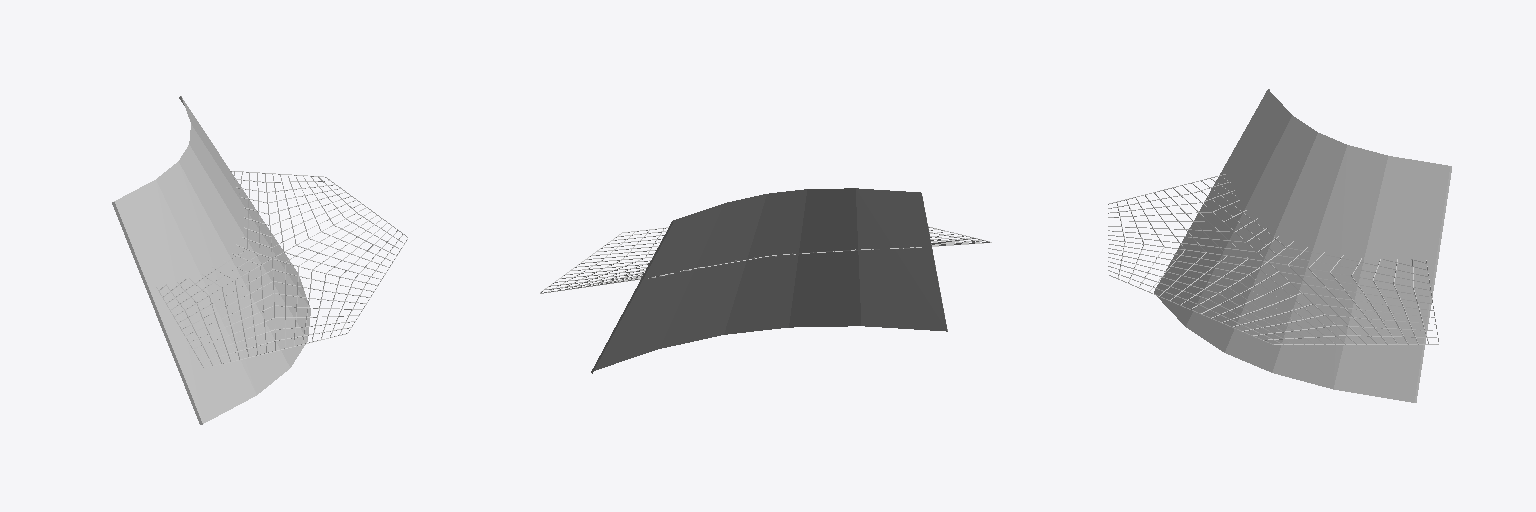
File: CornerNet.obj
3 views of the same model, side by side, from view 1: azimuth 30°, elevation 25°; view 2: azimuth 150°, elevation 25°; view 3: azimuth 270°, elevation 25° (orthographic).
Parts seen in each view (by area): view 1: 4Way.001_Cube.058; view 2: 4Way.001_Cube.058; view 3: 4Way.001_Cube.058.
Boxes of the visible parts, x1=… form: 4Way.001_Cube.058: x1=112, y1=96, x2=407, y2=424; 4Way.001_Cube.058: x1=540, y1=188, x2=991, y2=373; 4Way.001_Cube.058: x1=1108, y1=89, x2=1451, y2=402.
Bounding box in the file's own units: 10.39 × 6.32 × 10.39.